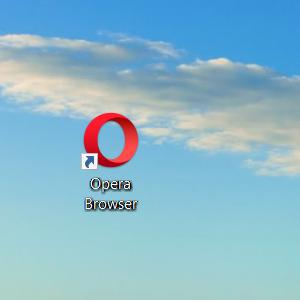opera: (80, 112, 140, 170)
